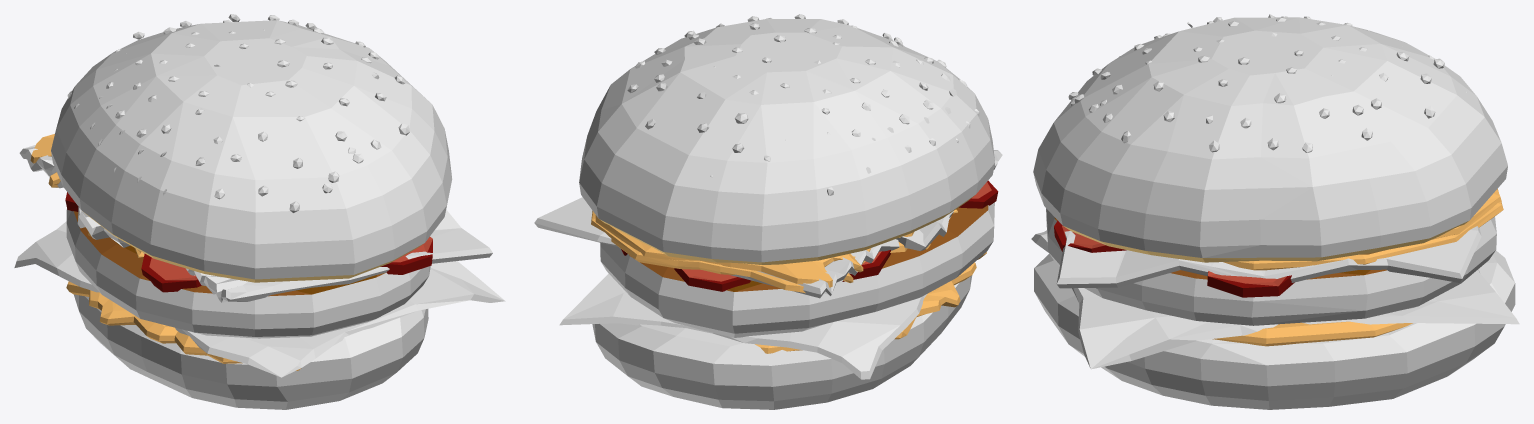
File: Burgercina.fbx
The picture shows the model from 3 angles, left to right: view 1: azimuth 30°, elevation 25°; view 2: azimuth 150°, elevation 25°; view 3: azimuth 270°, elevation 25°; orthographic projection. The views are drawn at different scales.
Visible parts, largest first — view 1: Pain haut; view 2: Pain haut; view 3: Pain haut.
Part boxes in pixels (x1=…): Pain haut: x1=14, y1=14, x2=505, y2=409; Pain haut: x1=534, y1=14, x2=1002, y2=409; Pain haut: x1=1031, y1=14, x2=1519, y2=409.
Size of the model in its own units: 138 by 165 by 114.
